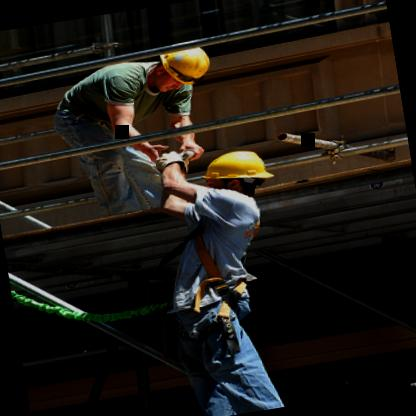helmet: (196, 140, 284, 206), (134, 36, 224, 98)
